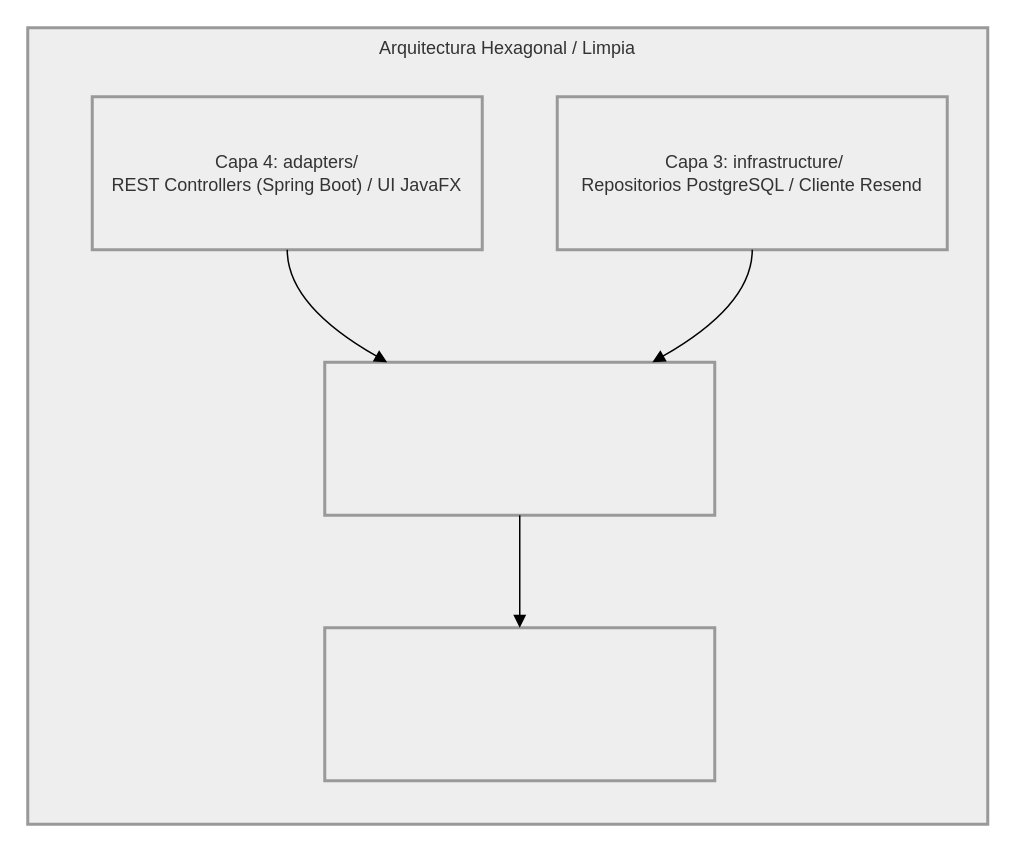
Some shapes in this 1014 by 851 pixel diagram are drawn without their labels. The box of each missing label's shape, as (x1, y1, x2, y2) in pixels:
Capa 1: entities/ Medicion, Umbral, Variable... (Core): (322, 626, 716, 782)
Capa 2: usecases/ Casos de Uso / Puertos (Interfaces): (322, 360, 716, 516)
